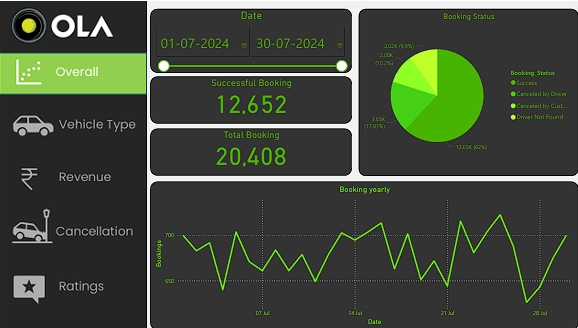

The page's visual inventory and layout, read from the dashboard file:
{"tool":"powerbi","page":{"name":"Overall","canvas":[1280,720],"ordinal":0},"visuals":[{"type":"actionButton","box":[0,107.5,324.2,95.7],"z":0},{"type":"actionButton","box":[0,203.3,324.2,124.3],"z":1000},{"type":"actionButton","box":[0,327.9,323.9,105.7],"z":2000},{"type":"actionButton","box":[0,433.4,324.2,134.4],"z":3000},{"type":"actionButton","box":[0,567.8,324.2,152.9],"z":4000},{"type":"lineChart","title":"Booking yearly ","fields":{"Y":["CountNonNull(July.Booking_ID)"],"Category":["July.Date.Variation.Date Hierarchy.Year","July.Date.Variation.Date Hierarchy.Quarter","July.Date.Variation.Date Hierarchy.Month","July.Date.Variation.Date Hierarchy.Day"]},"box":[331.1,393.4,936.5,324.2],"z":5000},{"type":"pieChart","title":"Booking Status","fields":{"Category":["July.Booking_Status"],"Y":["CountNonNull(July.Booking_ID)"]},"box":[786.8,15.2,480.7,365.7],"z":6000},{"type":"card","title":"Total Booking","fields":{"Values":["Count(July.Booking_ID)"]},"box":[331.1,277.1,440.5,102.5],"z":7000},{"type":"card","title":"Successful Booking","fields":{"Values":["CountNonNull(July.Booking_Status)"]},"box":[331.1,163.5,440.5,102.5],"z":8000},{"type":"slicer","title":"Date","fields":{"Values":["July.Date"]},"box":[331.1,15.2,440.5,139.9],"z":9000}]}

Visuals, with their boxes in screenshot pixels (x1, y1, x2, y2), scaled from the page's 1280x720 canvas onto the 578x328 screenshot:
actionButton: [0,49,146,93]
actionButton: [0,93,146,149]
actionButton: [0,149,146,198]
actionButton: [0,197,146,259]
actionButton: [0,259,146,327]
"Booking yearly " lineChart: [150,179,572,327]
"Booking Status" pieChart: [355,7,572,174]
"Total Booking" card: [150,126,348,173]
"Successful Booking" card: [150,74,348,121]
"Date" slicer: [150,7,348,71]
